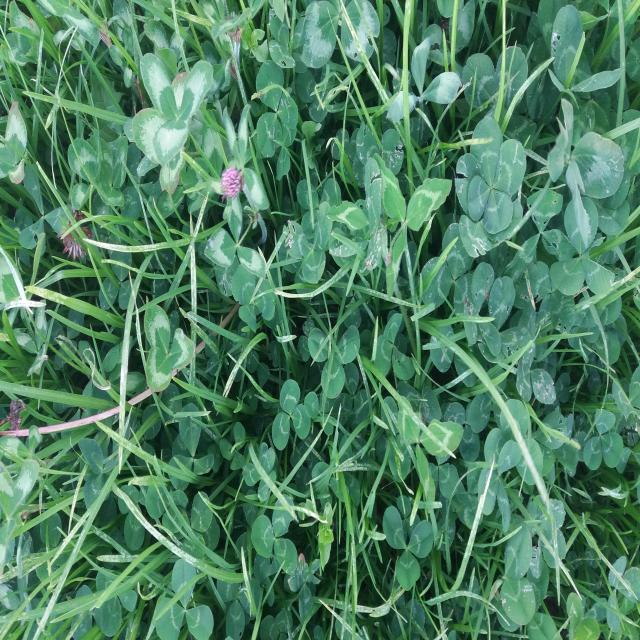Four Leaf Clover: (468, 116, 527, 235)
